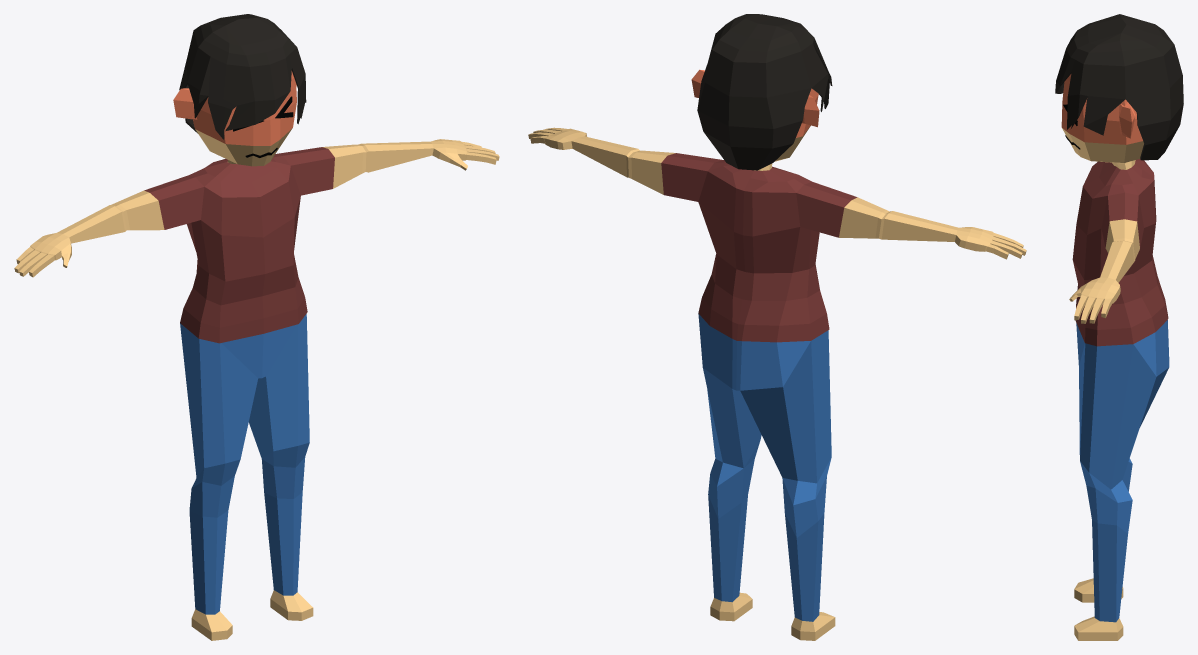
The model's file is MCfinalpls.fbx.
The picture shows the model from 3 angles, left to right: view 1: azimuth 30°, elevation 25°; view 2: azimuth 150°, elevation 25°; view 3: azimuth 270°, elevation 25°; orthographic projection. The views are drawn at different scales.
Visible parts, largest first — view 1: Cylinder, 1; view 2: Cylinder, 1; view 3: Cylinder, 1.
Boxes of the visible parts, <box> form: Cylinder: <box>14,71,499,640</box>; 1: <box>179,14,306,139</box>; Cylinder: <box>528,69,1026,640</box>; 1: <box>697,14,832,170</box>; Cylinder: <box>1061,74,1169,640</box>; 1: <box>1055,14,1183,160</box>.
Bounding box in the file's own units: 165 × 194 × 38.26.
